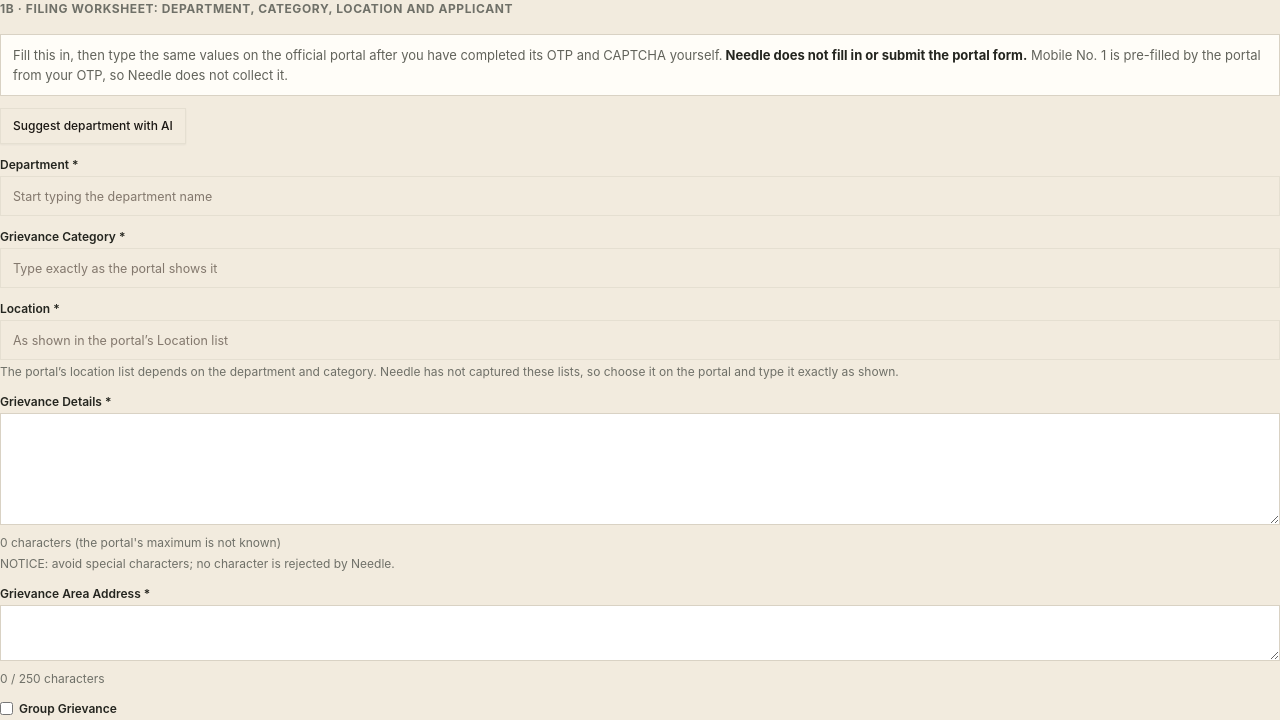
Test: DelhiFilingWorksheet › a complete catalogue says it is not proof that every category appears in the filing form
This screenshot has width=1280, height=720.
Type "Delhi Police" into the field labelled "Department *".
click(640, 196); type("Delhi Police")  # box [0, 176, 1279, 216]
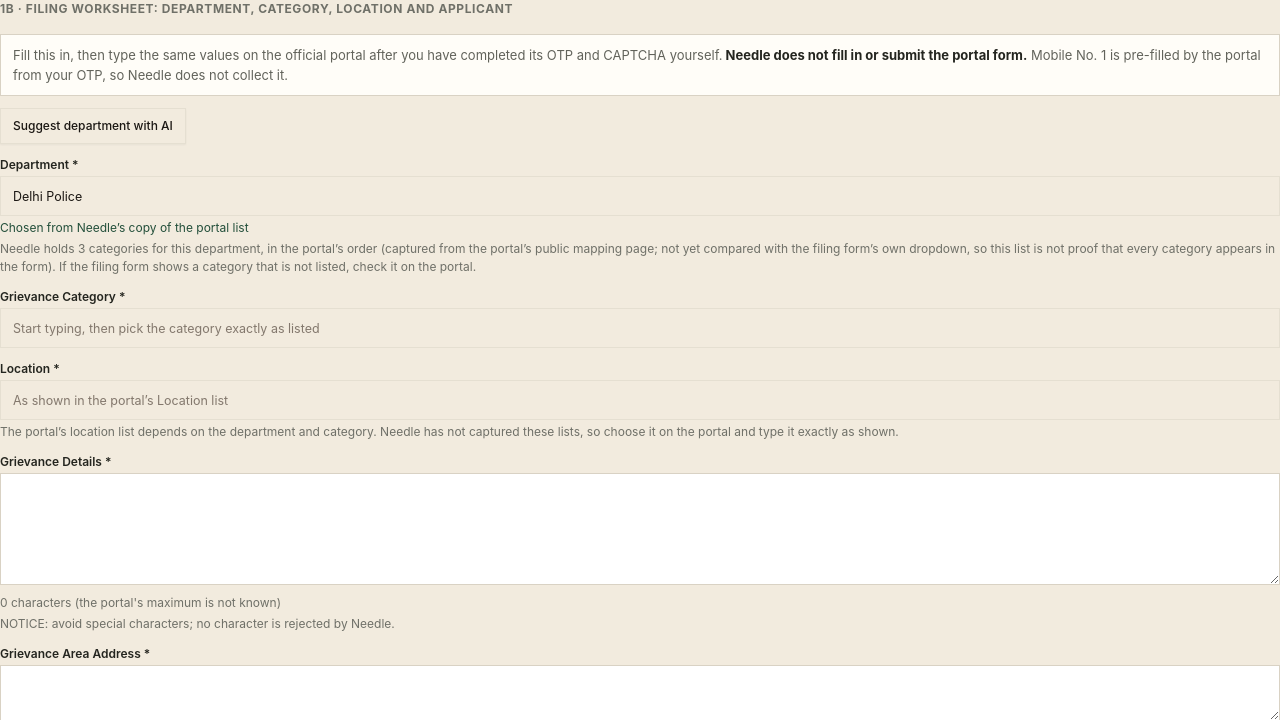
Expected: the text with test id "delhi-fw-dept-status" shows "not proof that every category appears in the form", [0, 241, 1275, 274]
